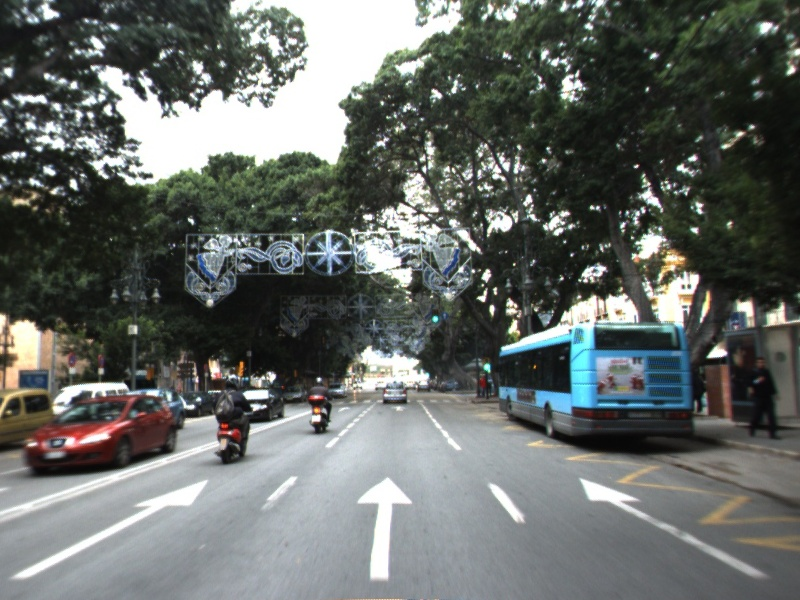STRAIGHT: (7, 474, 213, 583), (573, 473, 774, 582), (354, 474, 417, 584), (389, 404, 410, 413), (336, 405, 353, 414)
